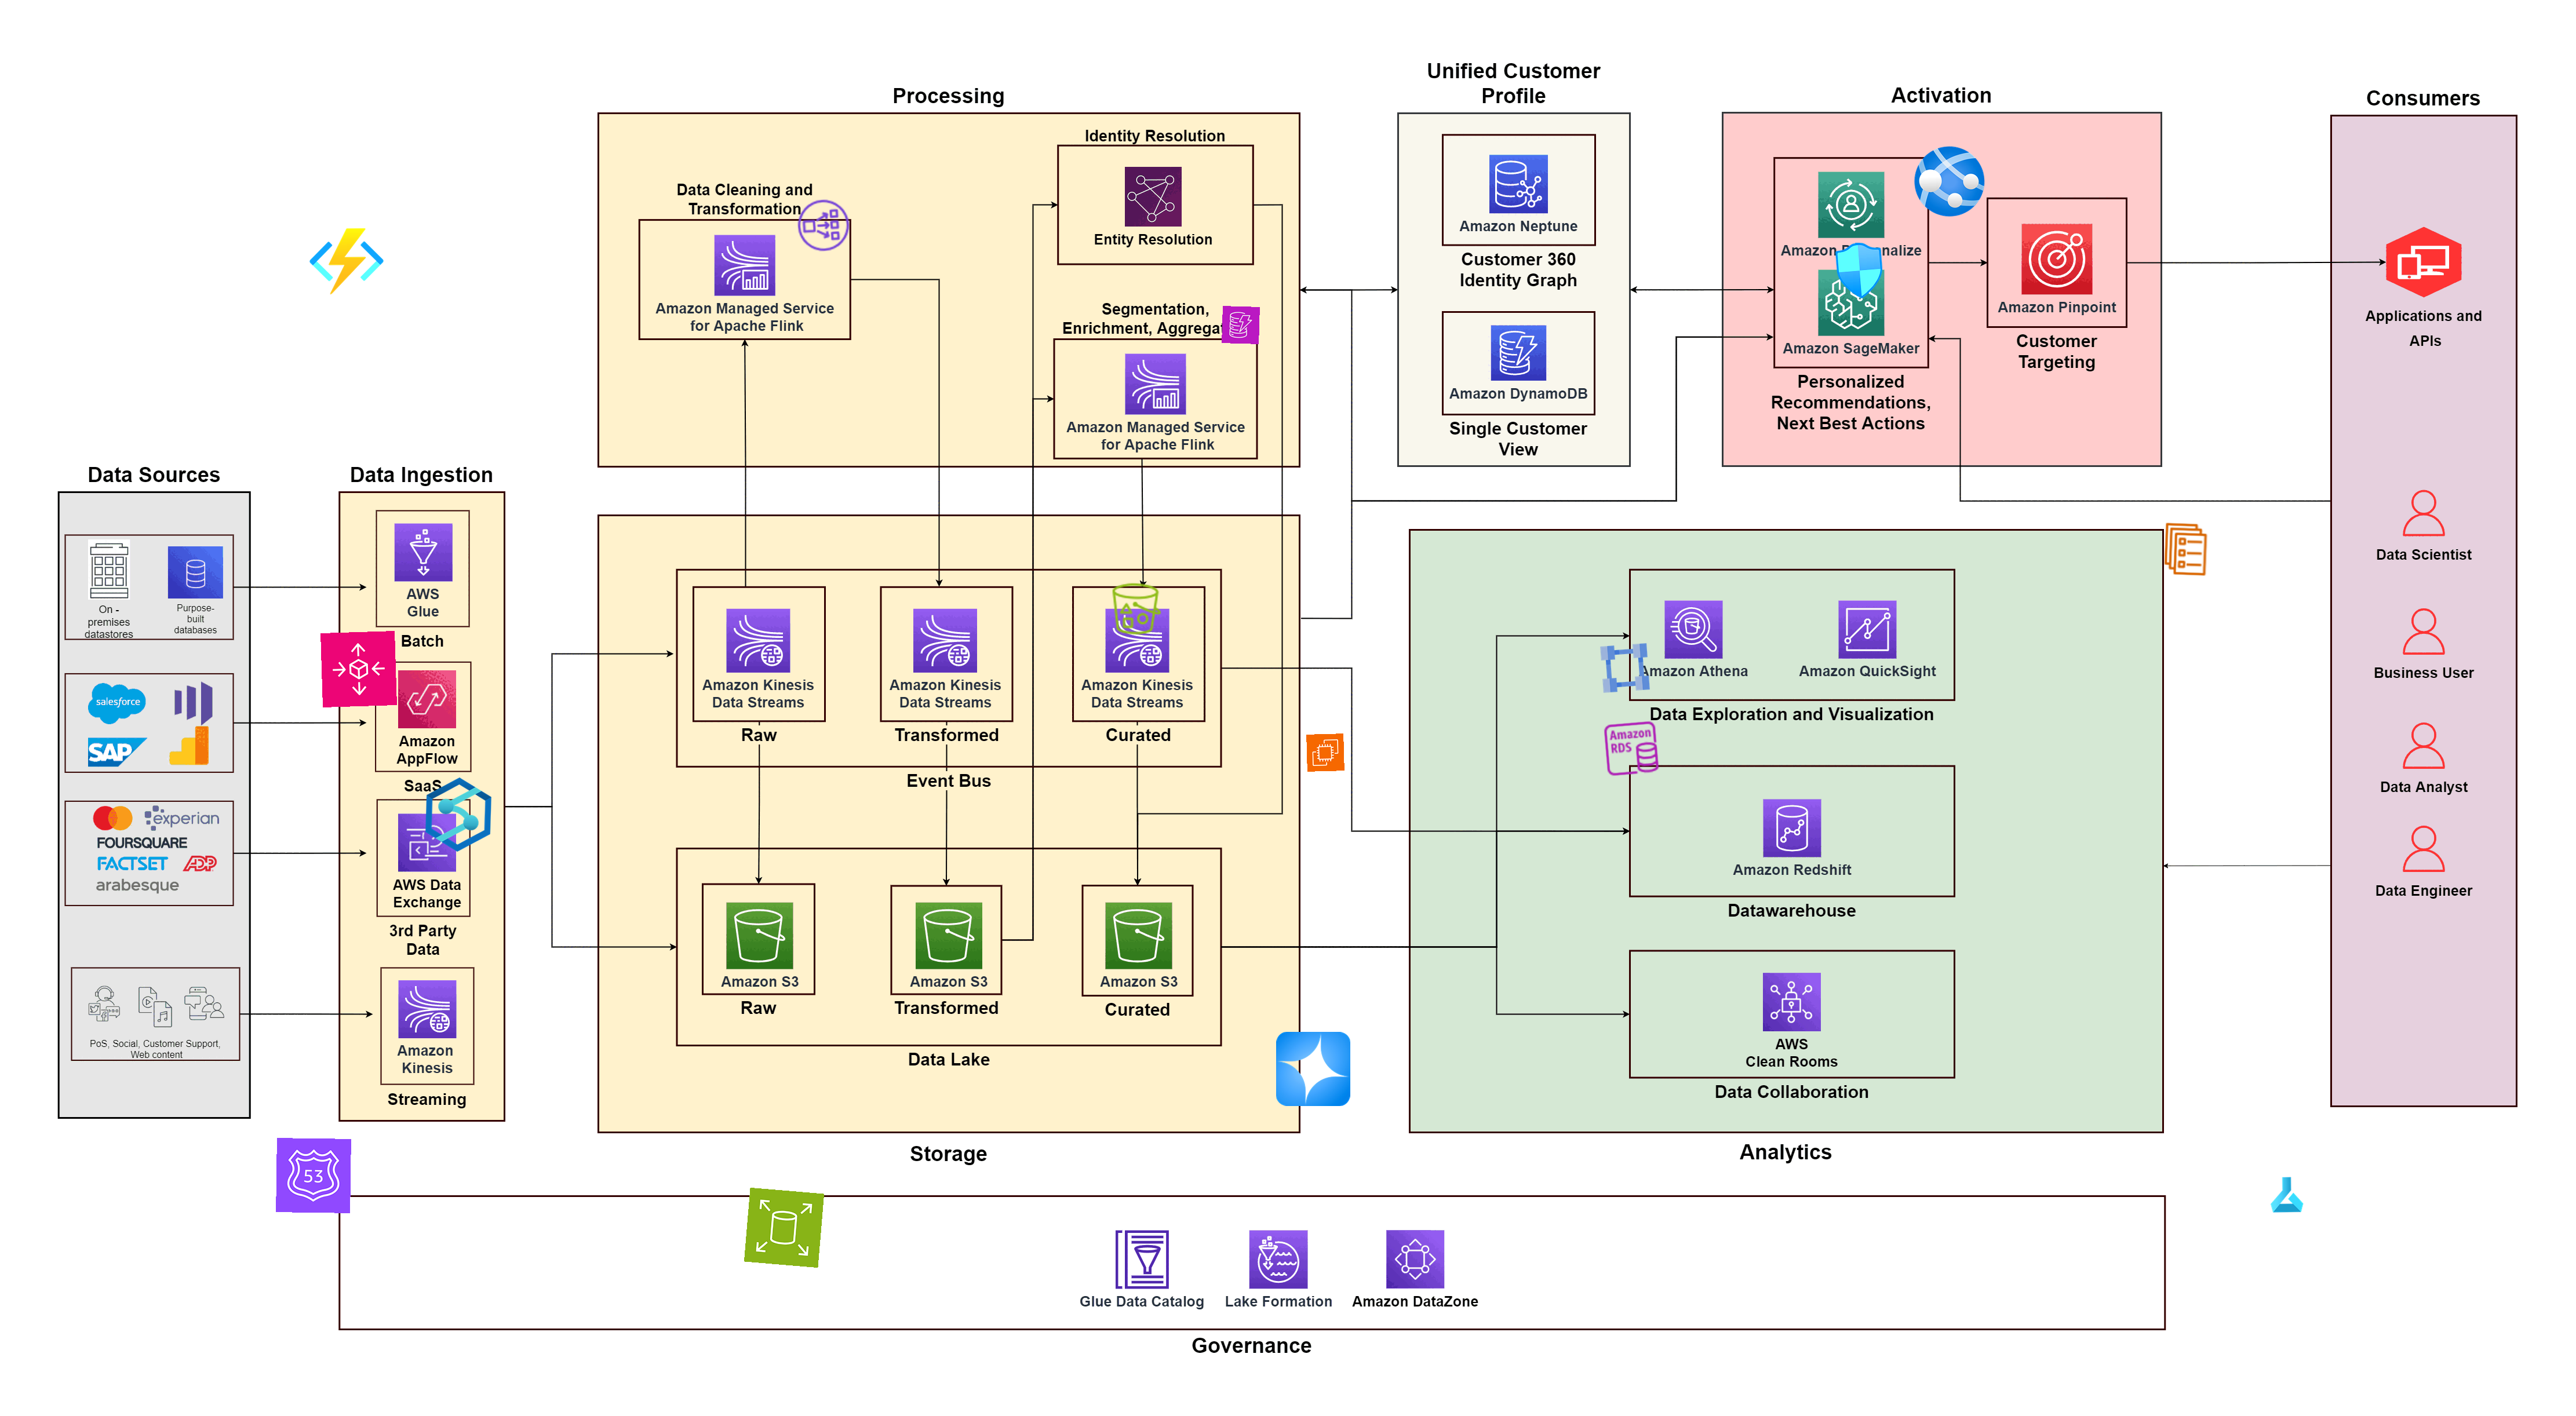aws_amazon_dynamodb: (1221, 305, 1259, 344)
aws_amazon_ec2: (1306, 734, 1345, 773)
aws_amazon_elastic_block_store: (743, 1188, 825, 1268)
aws_amazon_route_53: (276, 1139, 351, 1214)
aws_aurora_amazon_rds_instance: (1601, 718, 1662, 779)
aws_auto_scaling: (321, 631, 398, 708)
aws_elastic_container_service_service: (2157, 520, 2215, 579)
aws_elastic_load_balancing_network_load_balancer: (794, 195, 853, 255)
aws_simple_storage_service_bucket_with_objects: (1107, 581, 1165, 638)
azure_app_services: (1912, 143, 1988, 220)
azure_function_apps: (309, 223, 384, 298)
azure_machine_learning: (2267, 1175, 2306, 1214)
azure_network_security_groups: (1830, 241, 1891, 300)
azure_openai: (1275, 1031, 1352, 1107)
azure_synapse_analytics: (420, 776, 497, 853)
gcp_virtual_private_cloud: (1594, 638, 1655, 698)
